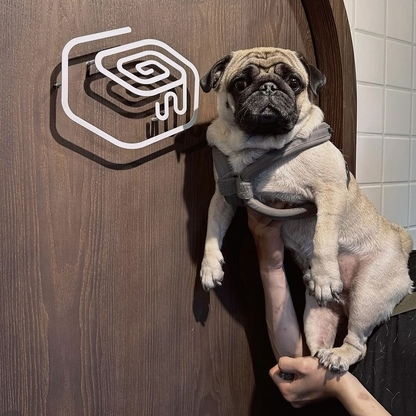Pug: (194, 42, 416, 375)
